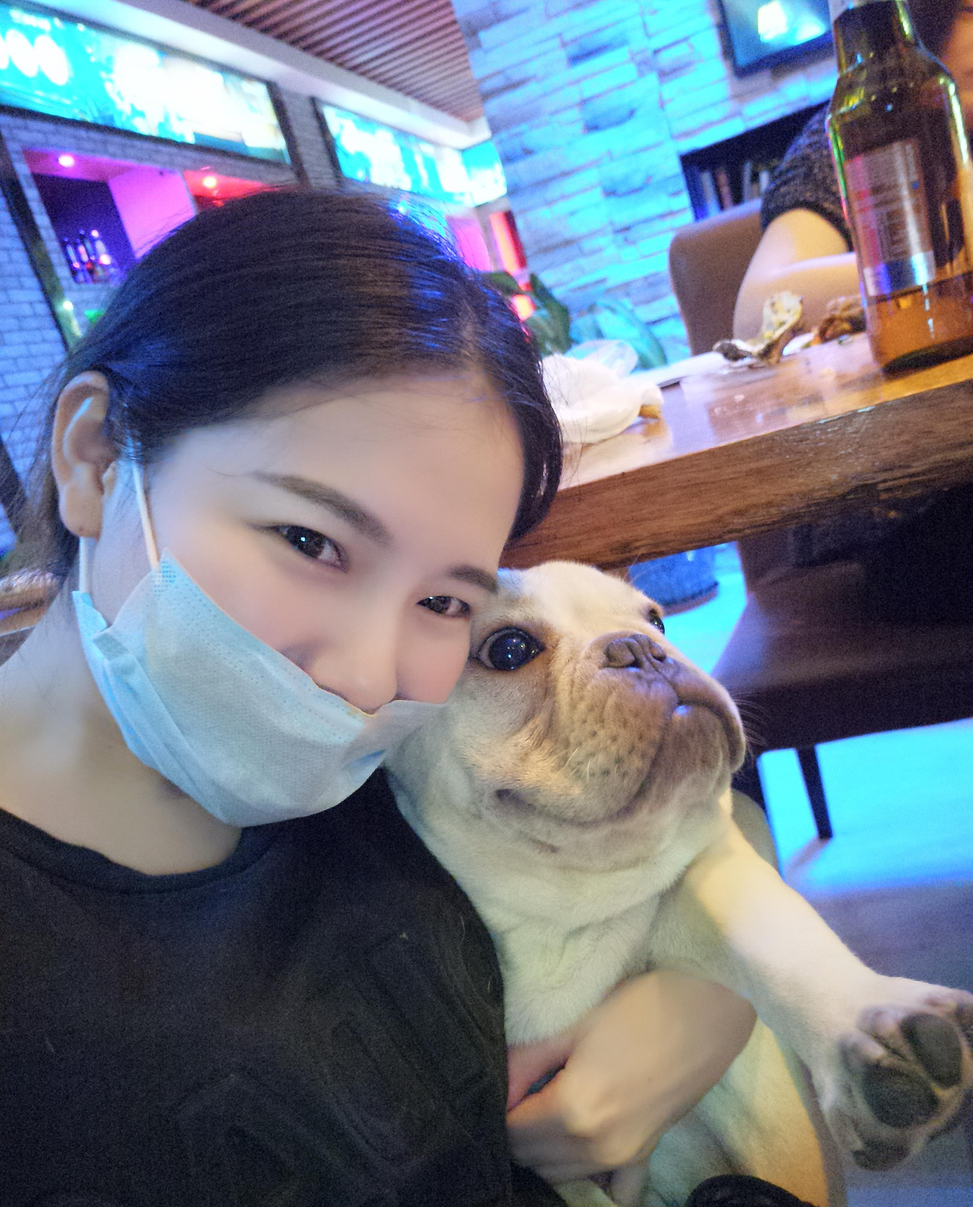WRONG: (113, 440, 500, 827)
